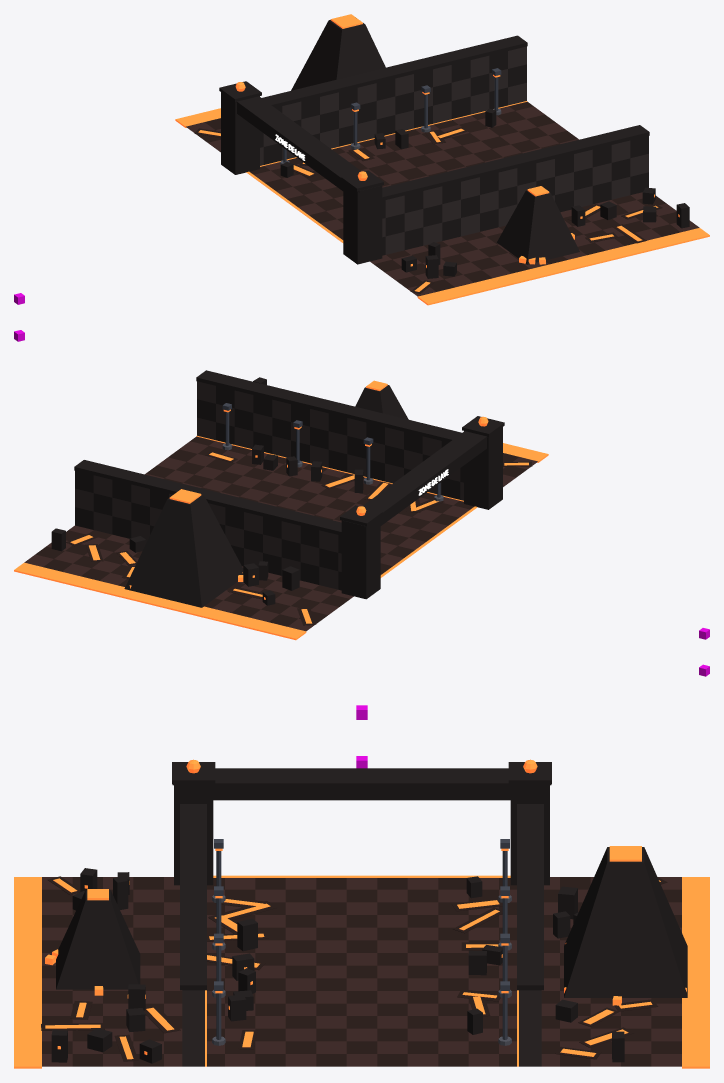
File: Zone2_Lave.glb
3 renders of one model, top to bottom at view 1: azimuth 30°, elevation 25°; view 2: azimuth 150°, elevation 25°; view 3: azimuth 270°, elevation 25°, orthographic. The views are drawn at different scales.
Visible parts, largest first — view 1: Zone2_Lave__volcanic_dark, Zone2_Lave__volcanic, Zone2_Lave__lava_rock_dark, Zone2_Lave__lava_rock, Zone2_Lave__lava_glow, Zone2_Lave__metal_dark; view 2: Zone2_Lave__volcanic_dark, Zone2_Lave__volcanic, Zone2_Lave__lava_rock_dark, Zone2_Lave__lava_rock, Zone2_Lave__lava_glow, Zone2_Lave__metal_dark; view 3: Zone2_Lave__volcanic_dark, Zone2_Lave__lava_rock_dark, Zone2_Lave__lava_rock, Zone2_Lave__lava_glow, Zone2_Lave__volcanic, Zone2_Lave__metal_dark, Zone2_Lave__stone_dark.
Part boxes in pixels (bbox=[...]): Zone2_Lave__volcanic_dark: bbox=[219, 19, 689, 278]; Zone2_Lave__volcanic: bbox=[260, 46, 648, 254]; Zone2_Lave__lava_rock_dark: bbox=[194, 101, 680, 293]; Zone2_Lave__lava_rock: bbox=[186, 106, 699, 296]; Zone2_Lave__lava_glow: bbox=[175, 14, 709, 305]; Zone2_Lave__metal_dark: bbox=[283, 68, 501, 162]; Zone2_Lave__volcanic_dark: bbox=[51, 370, 504, 607]; Zone2_Lave__volcanic: bbox=[75, 381, 463, 589]; Zone2_Lave__lava_rock_dark: bbox=[35, 436, 532, 626]; Zone2_Lave__lava_rock: bbox=[24, 441, 537, 631]; Zone2_Lave__lava_glow: bbox=[14, 380, 548, 640]; Zone2_Lave__metal_dark: bbox=[222, 403, 440, 497]; Zone2_Lave__volcanic_dark: bbox=[51, 762, 687, 1063]; Zone2_Lave__lava_rock_dark: bbox=[41, 876, 681, 1066]; Zone2_Lave__lava_rock: bbox=[42, 877, 681, 1066]; Zone2_Lave__lava_glow: bbox=[14, 759, 709, 1068]; Zone2_Lave__volcanic: bbox=[182, 990, 541, 1066]; Zone2_Lave__metal_dark: bbox=[214, 839, 509, 1039]; Zone2_Lave__stone_dark: bbox=[212, 895, 511, 1045].
Size of the model in its own units: 322 by 78.8 by 248.
